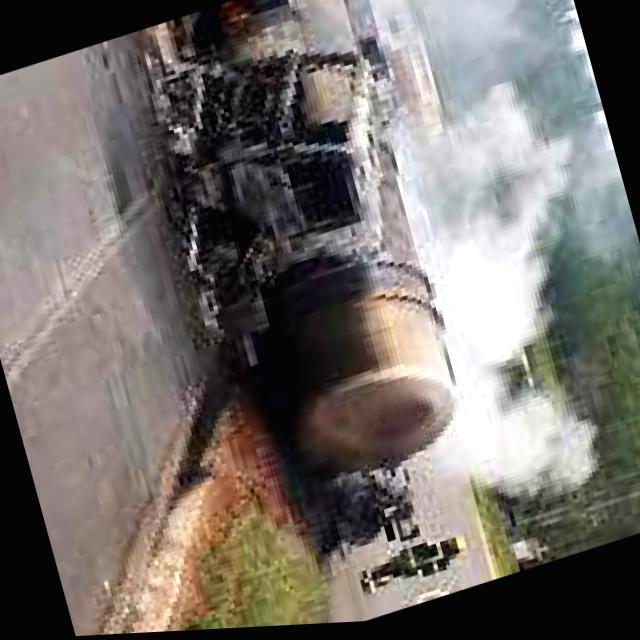smoke: (291, 0, 640, 557)
